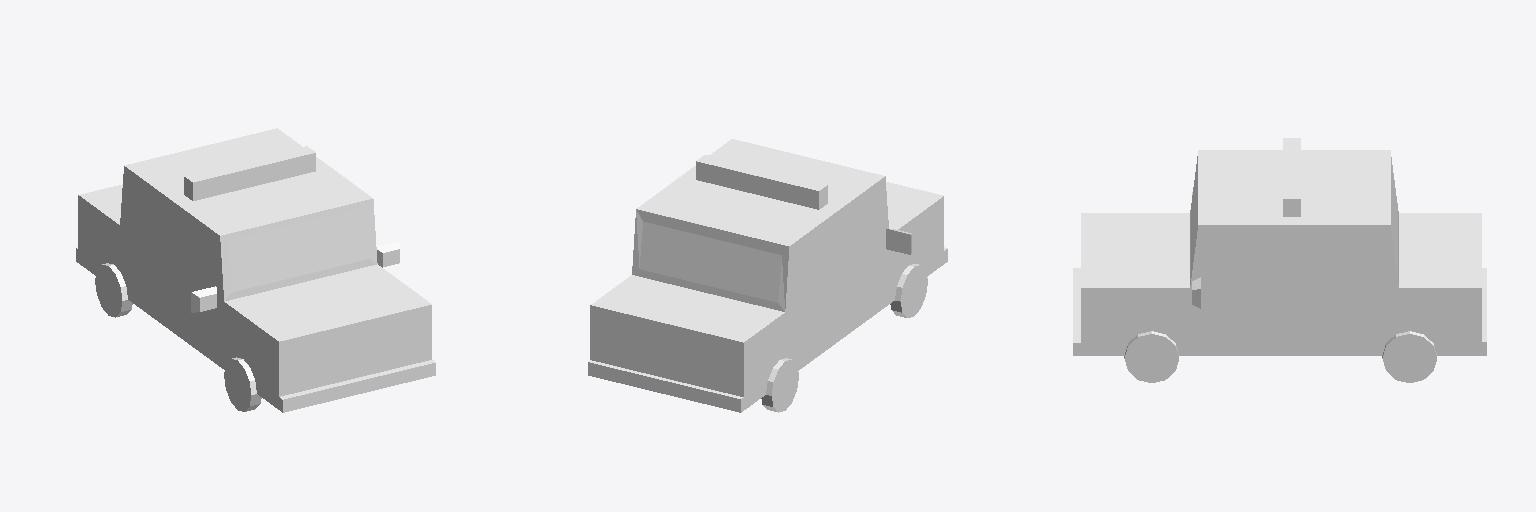
Rendered from CarCap.obj.
3 views of the same model, side by side, from view 1: azimuth 30°, elevation 25°; view 2: azimuth 150°, elevation 25°; view 3: azimuth 270°, elevation 25° (orthographic).
Visible parts, largest first — view 1: cop_mesh_Mesh.002; view 2: cop_mesh_Mesh.002; view 3: cop_mesh_Mesh.002.
Part boxes in pixels (bbox=[...]): cop_mesh_Mesh.002: bbox=[76, 128, 435, 412]; cop_mesh_Mesh.002: bbox=[588, 139, 947, 412]; cop_mesh_Mesh.002: bbox=[1073, 138, 1486, 382].
Size of the model in its own units: 3.33 by 2.67 by 5.74.